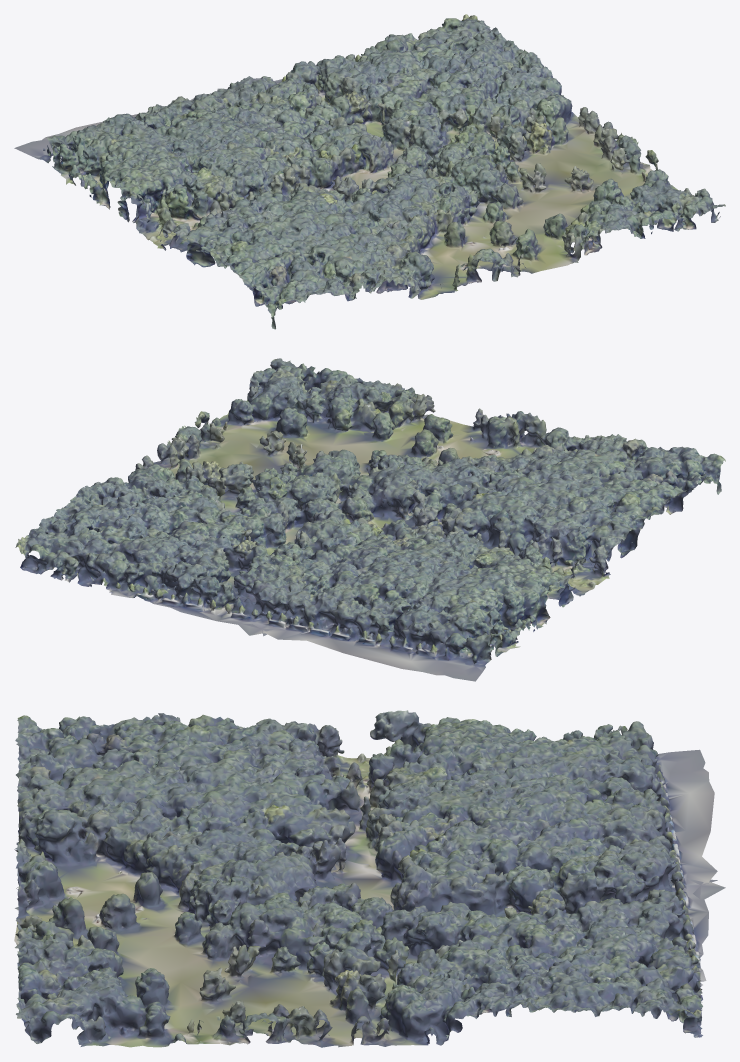
The model's file is surface-detail-3894_58193.glb.
3 renders of one model, top to bottom at view 1: azimuth 30°, elevation 25°; view 2: azimuth 150°, elevation 25°; view 3: azimuth 270°, elevation 25°, orthographic. The views are drawn at different scales.
Parts seen in each view (by area): view 1: world; view 2: world; view 3: world.
Part boxes in pixels (<box>): world: <box>14,14,725,329</box>; world: <box>15,358,725,681</box>; world: <box>14,710,725,1047</box>.
Bounding box in the file's own units: 372 × 30.72 × 376.
